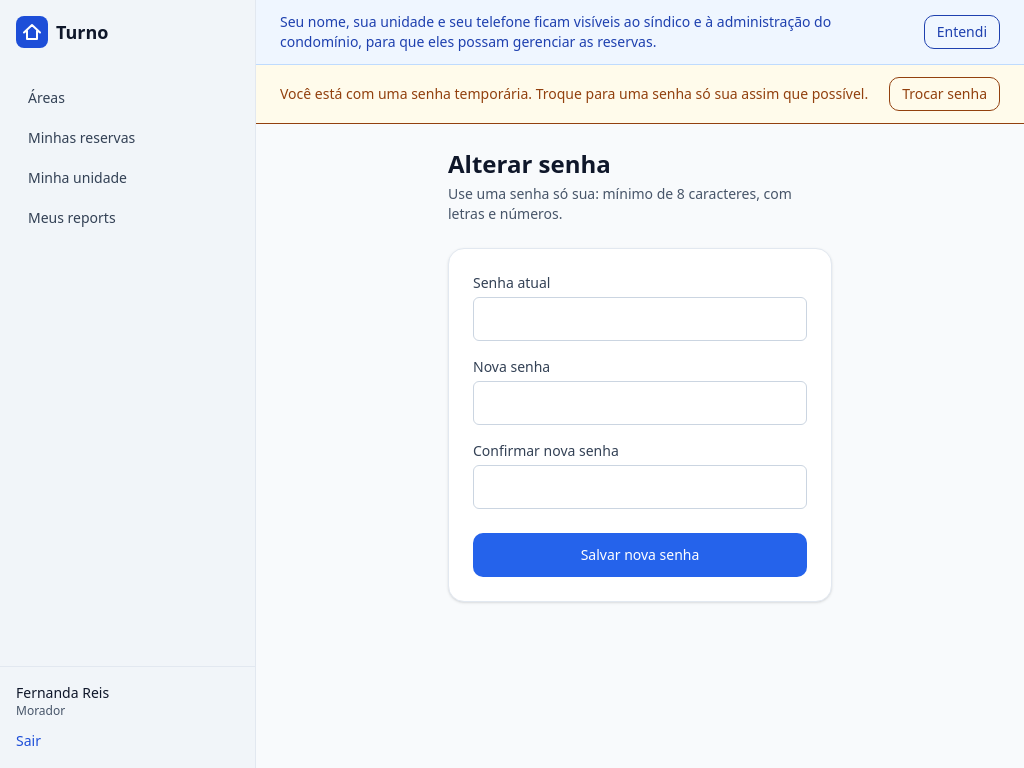
Test: Banner de senha temporária no AppShell › aparece com tempPassword=true e some depois de uma troca de senha bem-sucedida
Check: the text "senha temporária" is shown, box [280,84,868,103]
Type "temporaria1" into the password field labelled "Senha atual" at (640, 319), box [473,297,807,341]
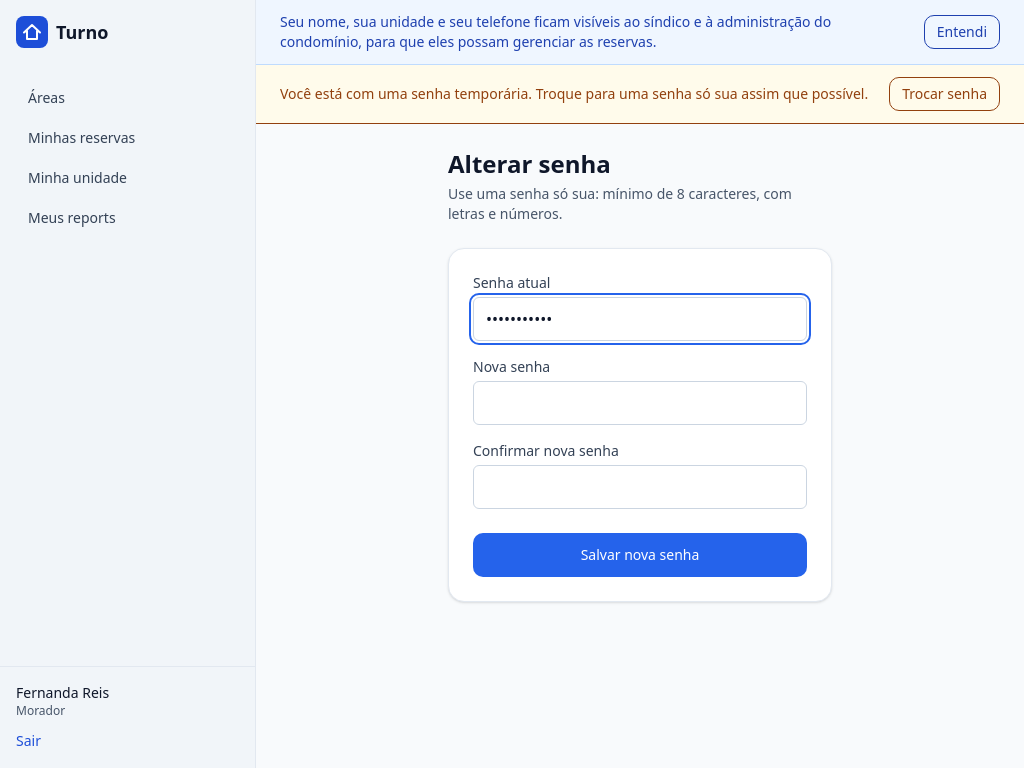
Type "novaSenha123" into the password field labelled "Nova senha" at (640, 403), box [473,381,807,425]
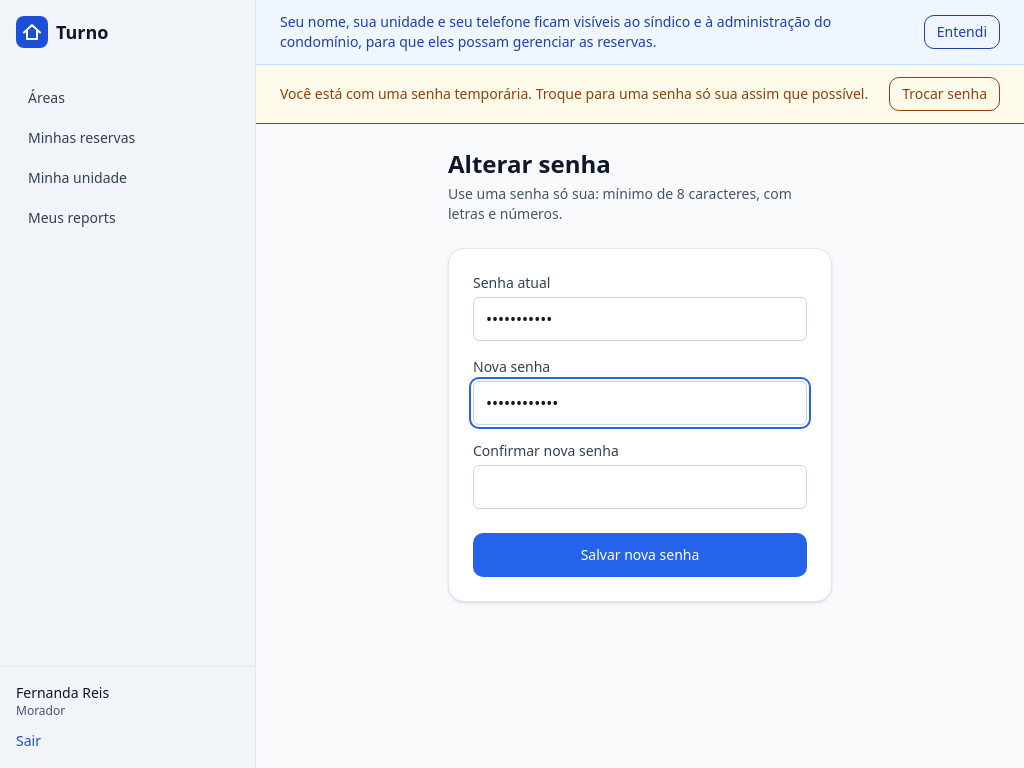
Type "novaSenha123" into the password field labelled "Confirmar nova senha" at (640, 487), box [473,465,807,509]
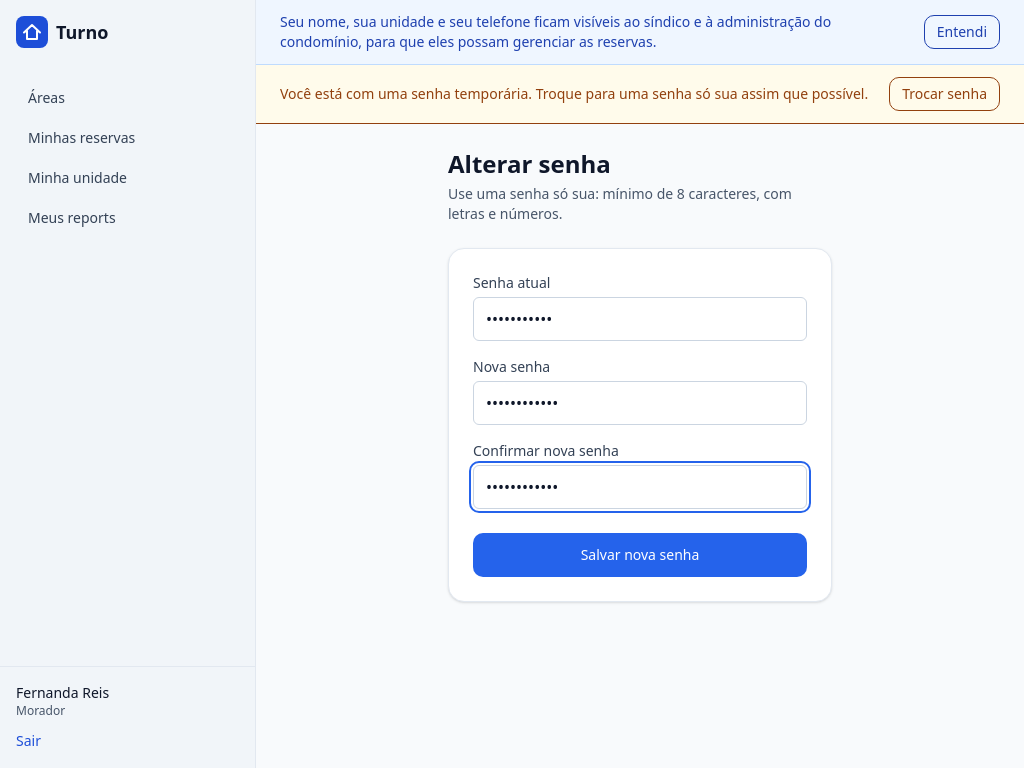
Click the button "Salvar nova senha" at (640, 555), box [473,533,807,577]
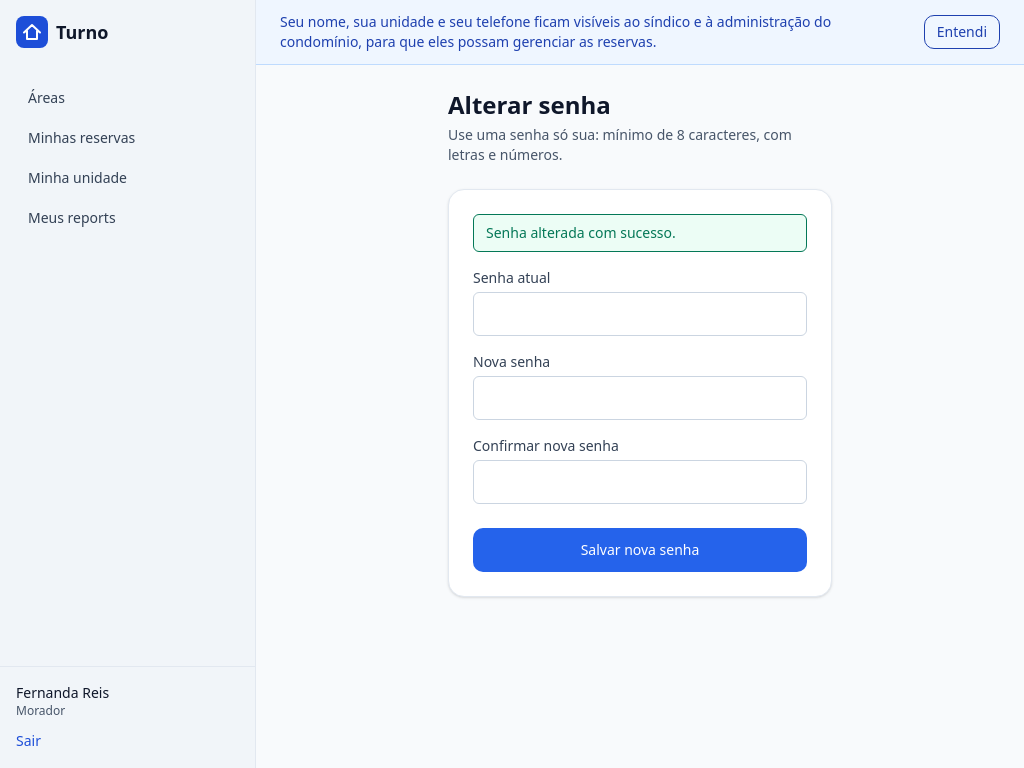
Check: the text "senha temporária" is gone
